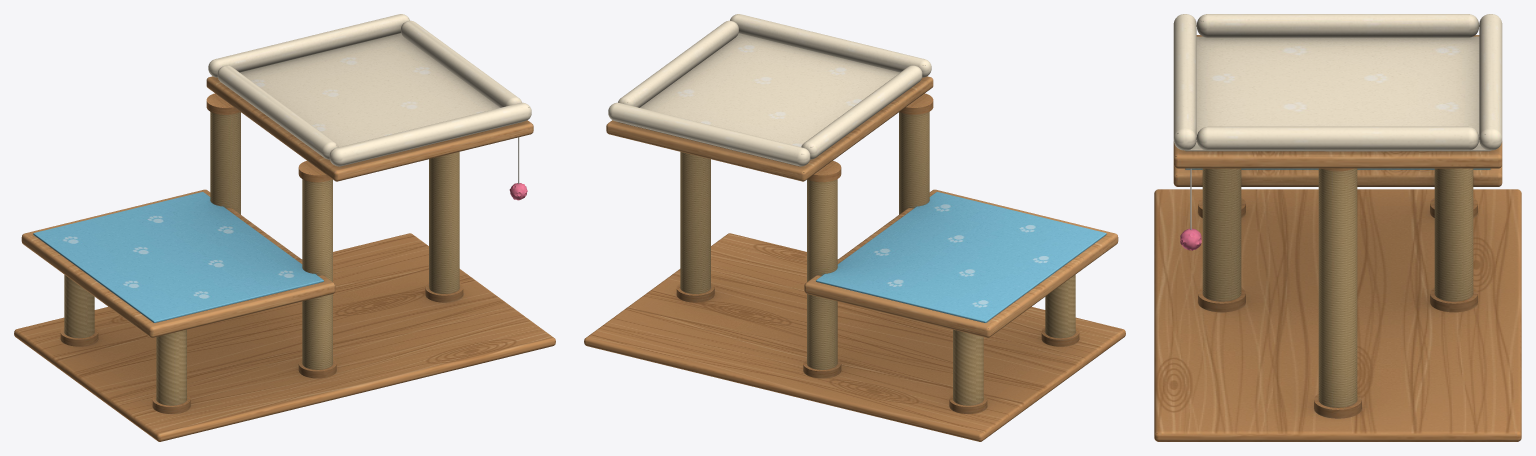
Rendered from tower_stairs.glb.
3 views of the same model, side by side, from view 1: azimuth 30°, elevation 25°; view 2: azimuth 150°, elevation 25°; view 3: azimuth 270°, elevation 25° (orthographic). The views are drawn at different scales.
Visible parts, largest first — view 1: tower_stairs; view 2: tower_stairs; view 3: tower_stairs.
Boxes of the visible parts, x1,y1,x2,y2 form: tower_stairs: (14, 14, 555, 441); tower_stairs: (584, 14, 1125, 441); tower_stairs: (1154, 14, 1521, 441).
Size of the model in its own units: 1.5 by 0.86 by 0.95.
1 material, 1 textured.
